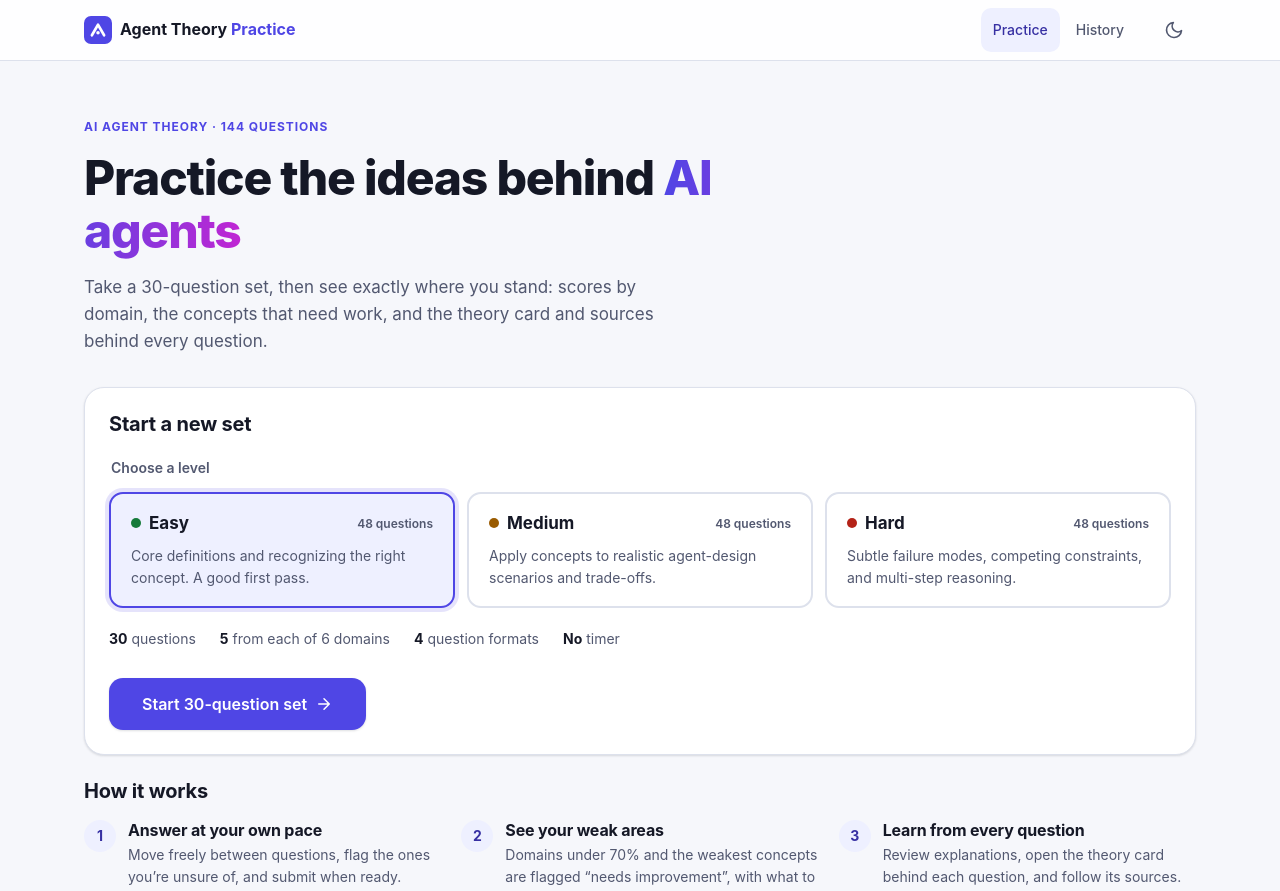
Test: HomePage › starts a set at the chosen level
The width and height of the screenshot is (1280, 891).
Click the radio button labelled "Hard". click: (998, 550)
box: [825,492,1171,608]
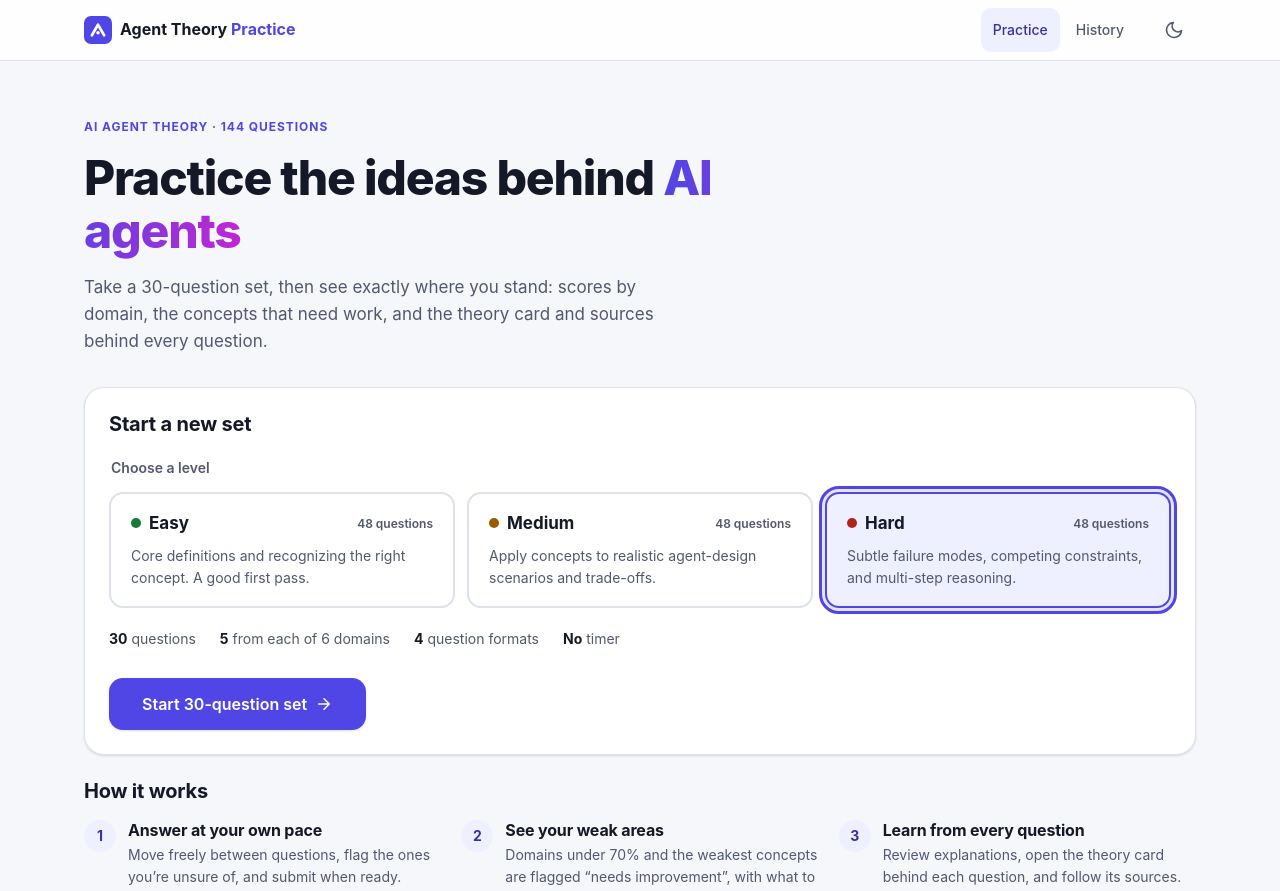
Click the button "Start 30-question set". click: (238, 704)
box: [109,678,366,730]
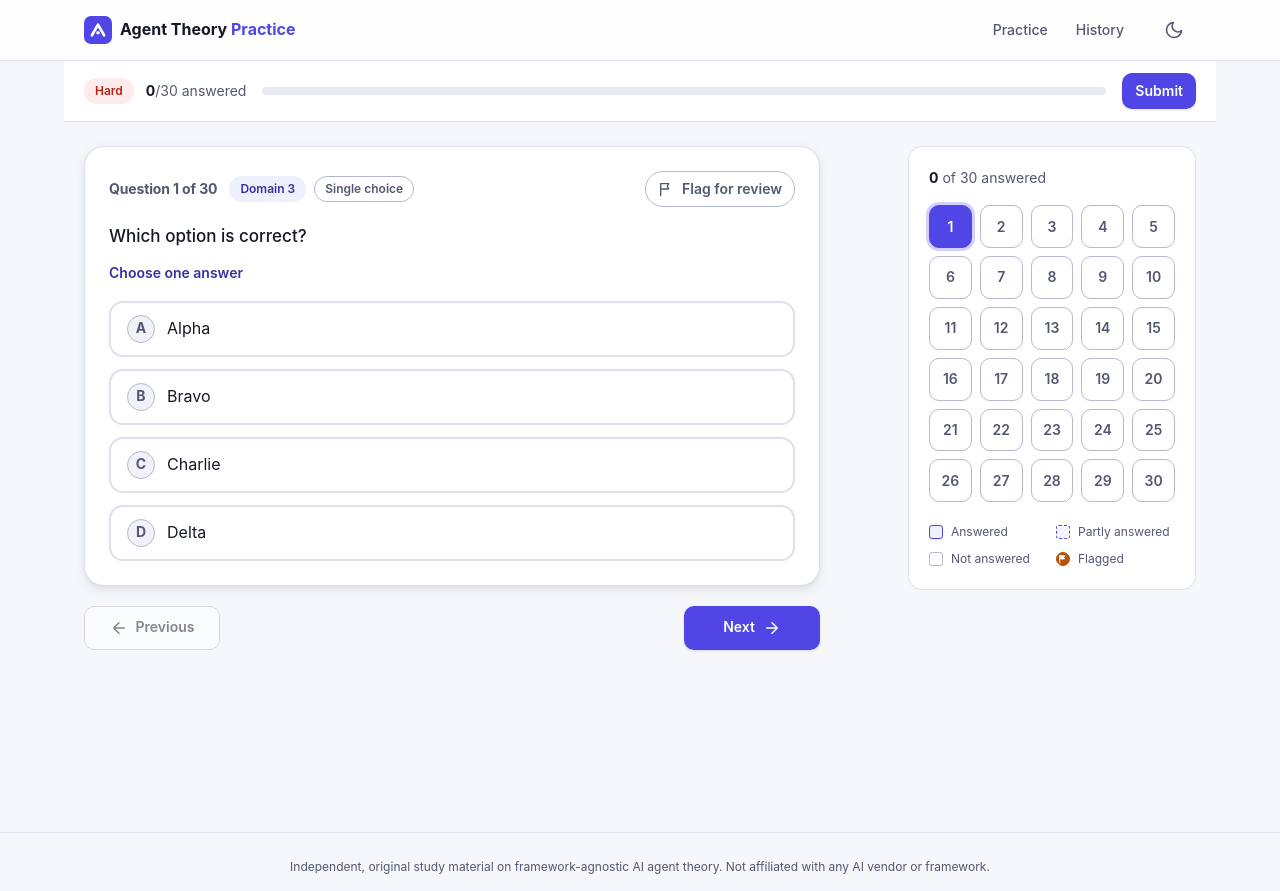
Now the heading "Question 1 of 30" is shown, box [109,180,217,198]
